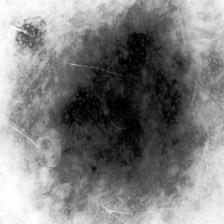Benign Marking or Mole: (11, 4, 199, 206)
